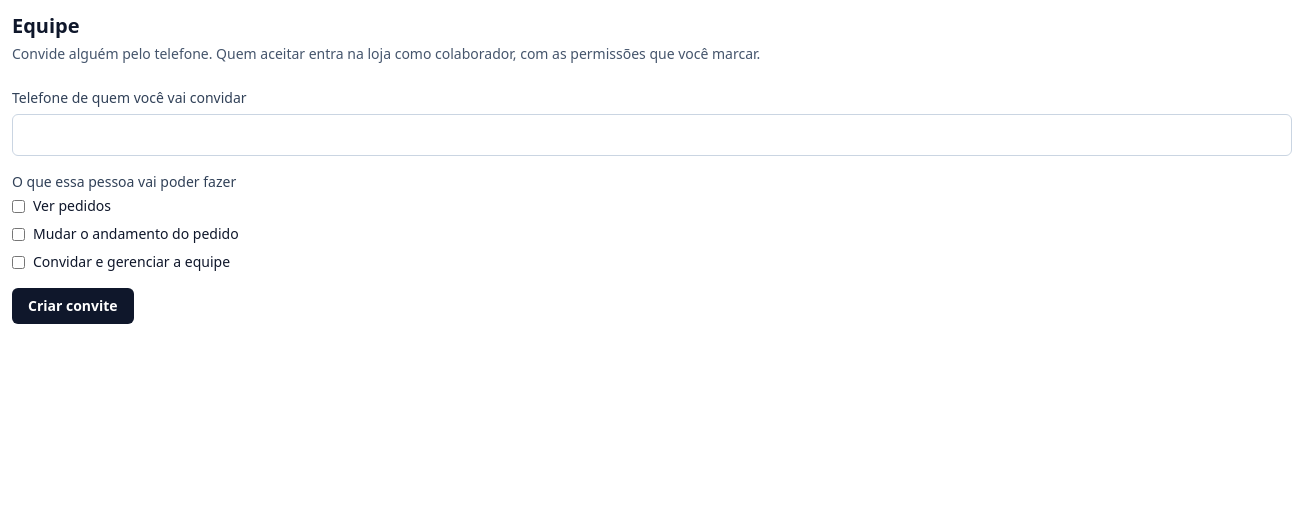
ConvidarParaEquipe › A3/A4 · o 201 mostra o link, em texto, com a origem da aplicação e o token
The width and height of the screenshot is (1304, 515).
Type "(81) 98765-4321" into the field labelled "Telefone de quem você vai convidar" at (652, 135), box x1=12 y1=114 x2=1292 y2=156
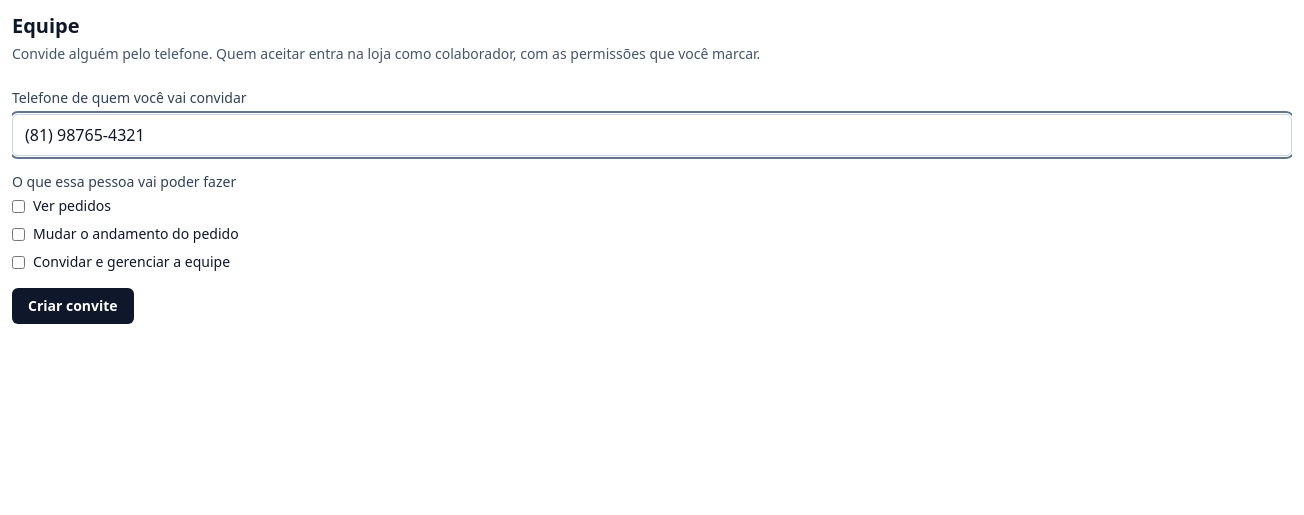
Click the checkbox labelled "Ver pedidos" at (18, 206), box x1=12 y1=200 x2=25 y2=212
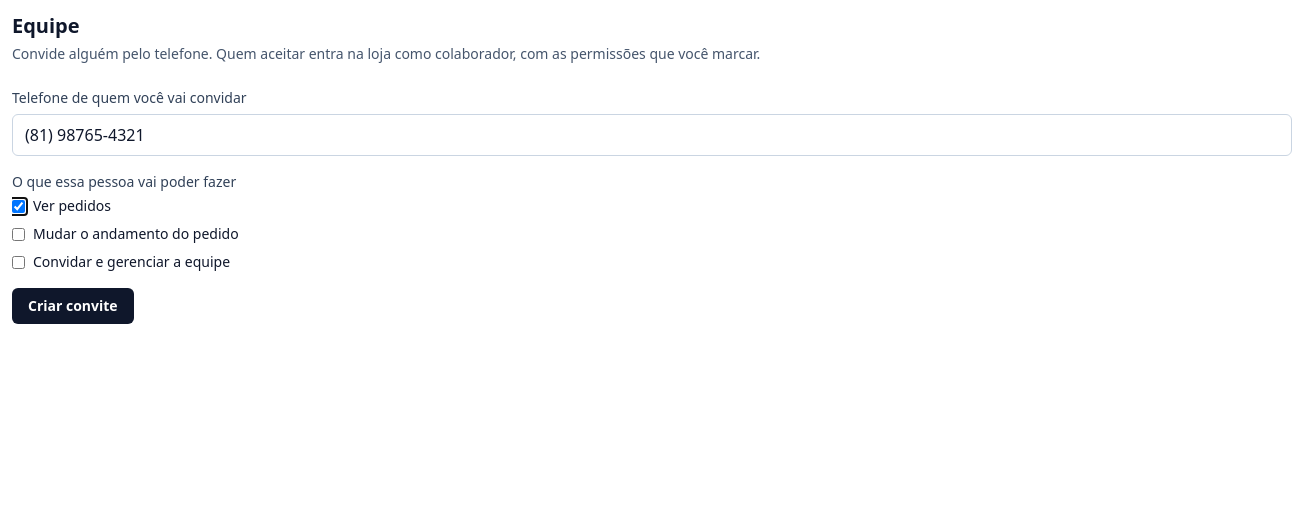
Click the button "Criar convite" at (73, 306), box x1=12 y1=288 x2=134 y2=324
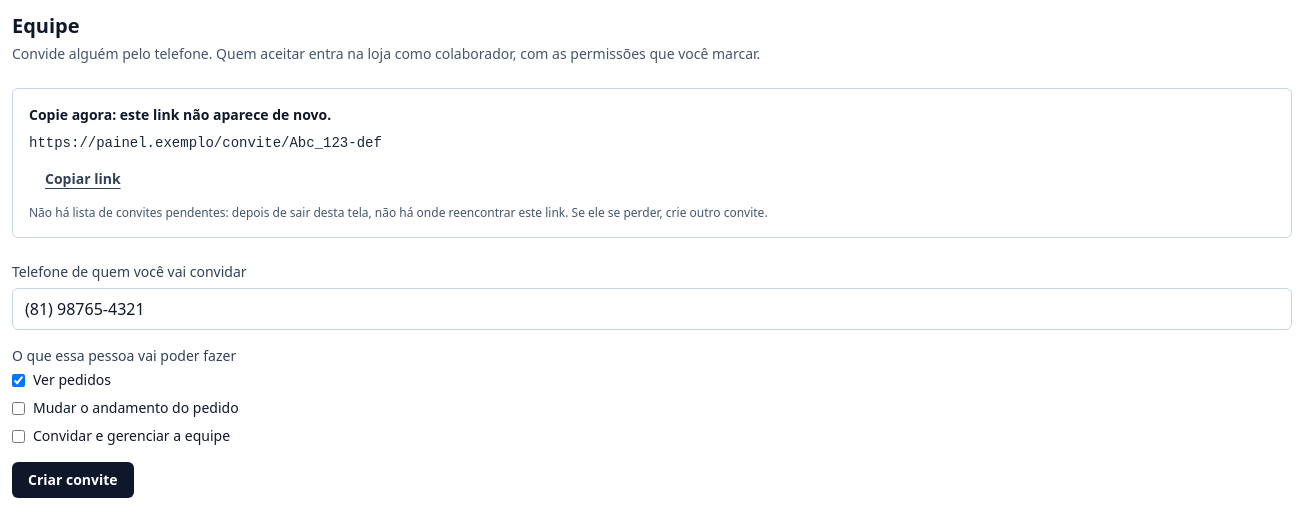
Expected: the text with test id "link-do-convite" reads "https://painel.exemplo/convite/Abc_123-def", x1=29 y1=135 x2=382 y2=151
Expected: the text "Copie agora: este link não aparece de novo." is shown, x1=29 y1=105 x2=331 y2=124
Expected: the text "Não há lista de convites pendentes" is shown, x1=29 y1=204 x2=768 y2=221
